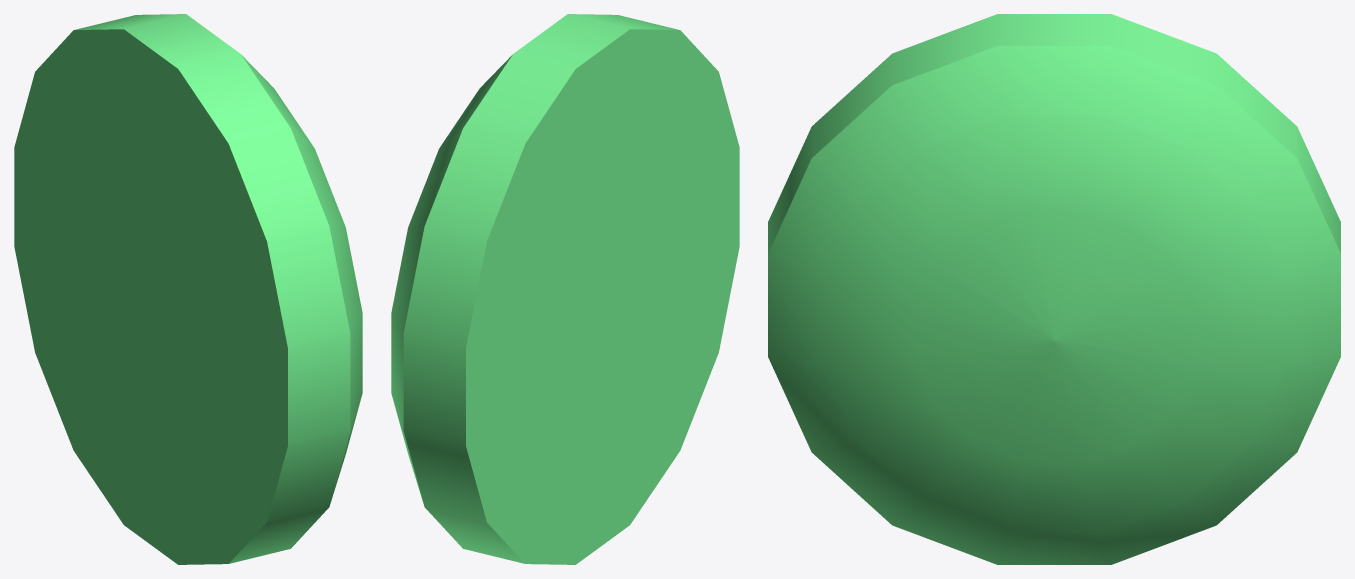
File: lamp_run.obj
3 renders of one model, left to right at view 1: azimuth 30°, elevation 25°; view 2: azimuth 150°, elevation 25°; view 3: azimuth 270°, elevation 25°, orthographic. The views are drawn at different scales.
Parts seen in each view (by area): view 1: lamp_run_lens; view 2: lamp_run_lens; view 3: lamp_run_lens.
Boxes of the visible parts, x1,y1,x2,y2 form: lamp_run_lens: [14, 14, 362, 564]; lamp_run_lens: [391, 14, 739, 564]; lamp_run_lens: [768, 14, 1340, 564].
Bounding box in the file's own units: 0.0212 × 0.076 × 0.076.
